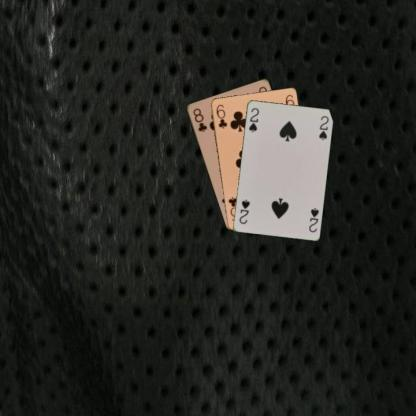2s: (246, 105, 260, 134), (306, 205, 320, 234)
6c: (213, 102, 228, 129)
8c: (190, 106, 208, 134)
